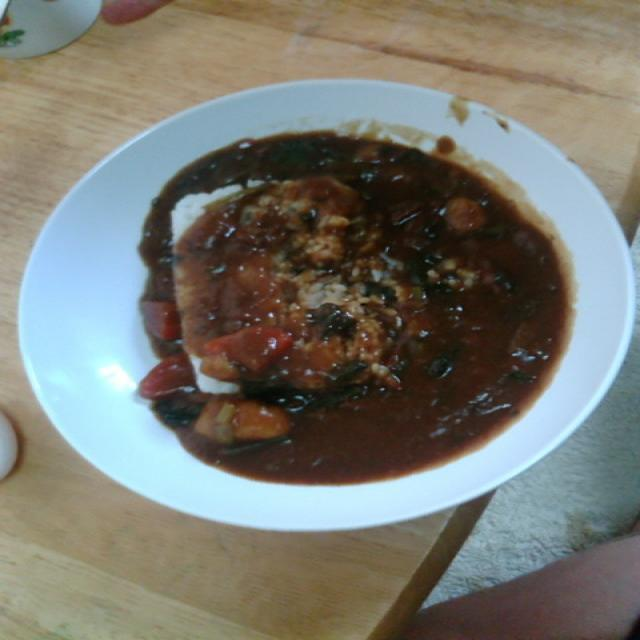Beef Curry: (150, 124, 584, 478)
